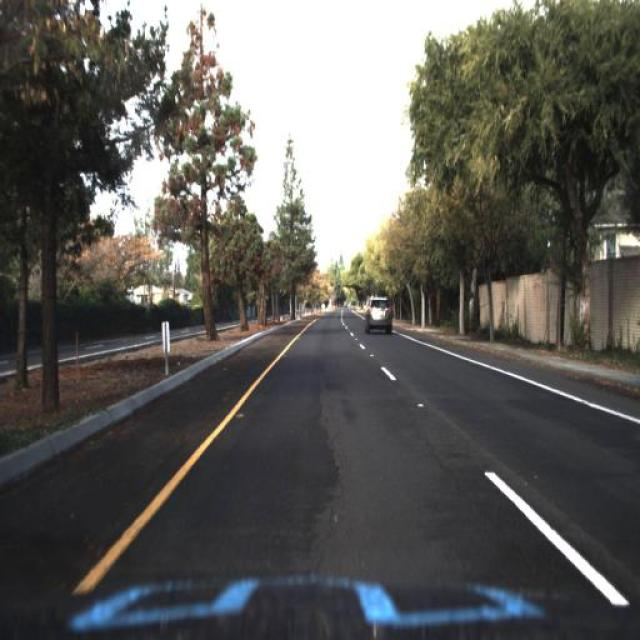car: (364, 294, 394, 336)
